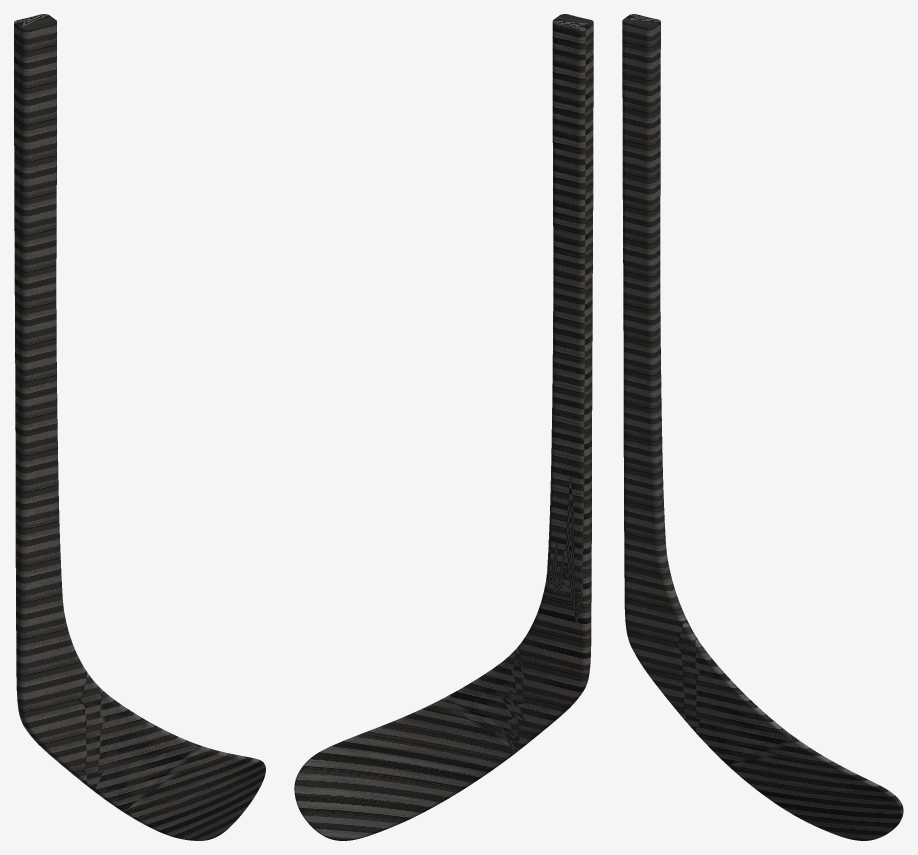
Rendered from P10-SBT.glb.
3 views of the same model, side by side, from view 1: azimuth 30°, elevation 25°; view 2: azimuth 150°, elevation 25°; view 3: azimuth 330°, elevation 25° (orthographic). The views are drawn at different scales.
Visible parts, largest first — view 1: geometry_0; view 2: geometry_0; view 3: geometry_0.
Boxes of the visible parts, bbox=[...] form: geometry_0: bbox=[14, 14, 265, 840]; geometry_0: bbox=[294, 14, 593, 840]; geometry_0: bbox=[622, 14, 903, 840].
Bounding box in the file's own units: 237 × 725 × 64.88.
1 material, 1 textured.
